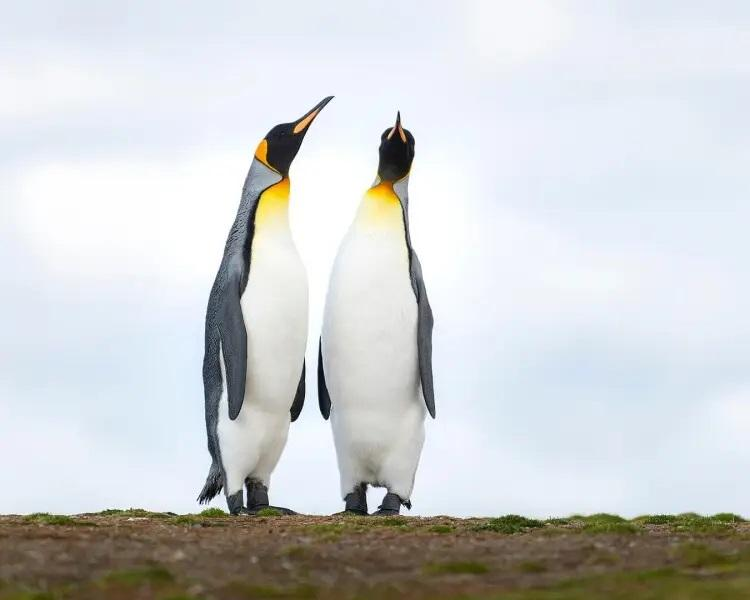king: (147, 60, 343, 546), (304, 98, 484, 548)
